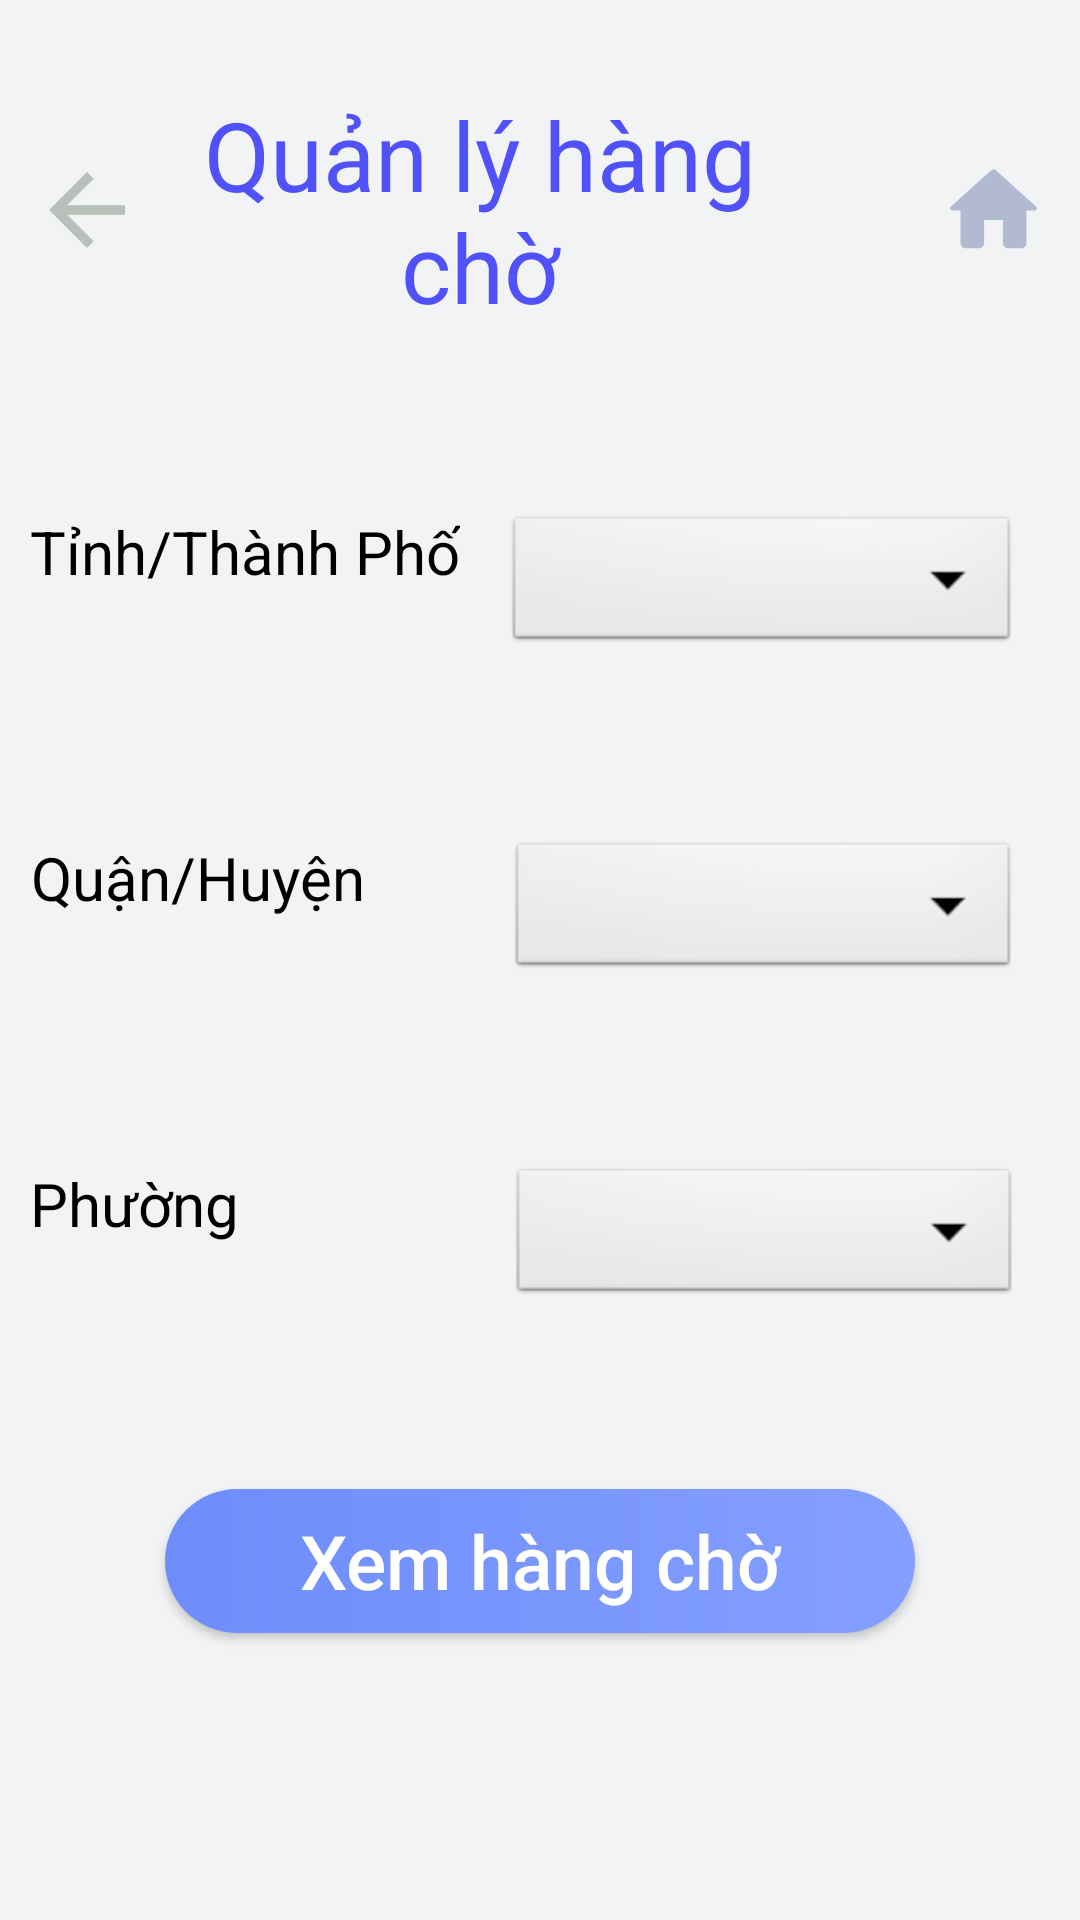

Locate icon controls on the screen. Image size 1080*1920, boxes as (x1, y1, x2, y2).
back: (49, 172, 125, 248)
home: (950, 169, 1037, 248)
